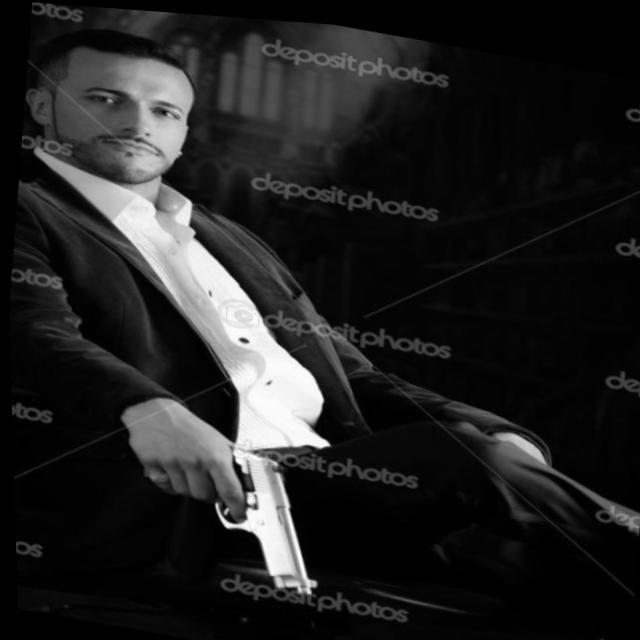weapon: (198, 434, 328, 594)
